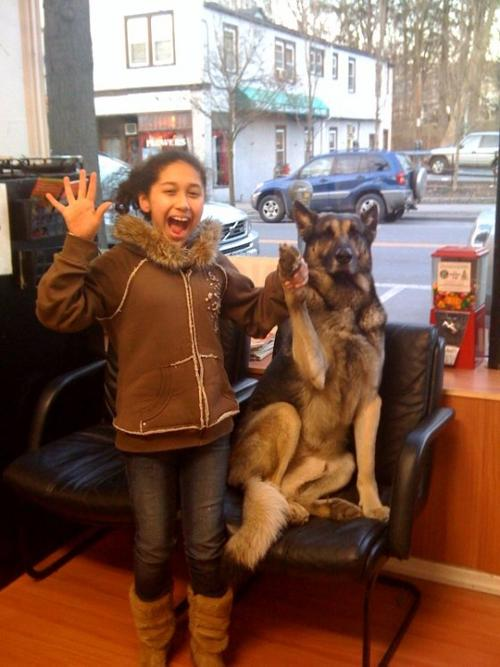person: (37, 147, 310, 667)
